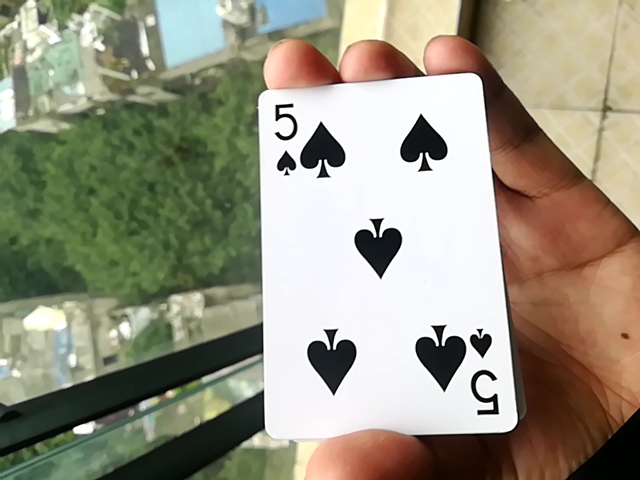ht 5: (239, 74, 512, 450)
